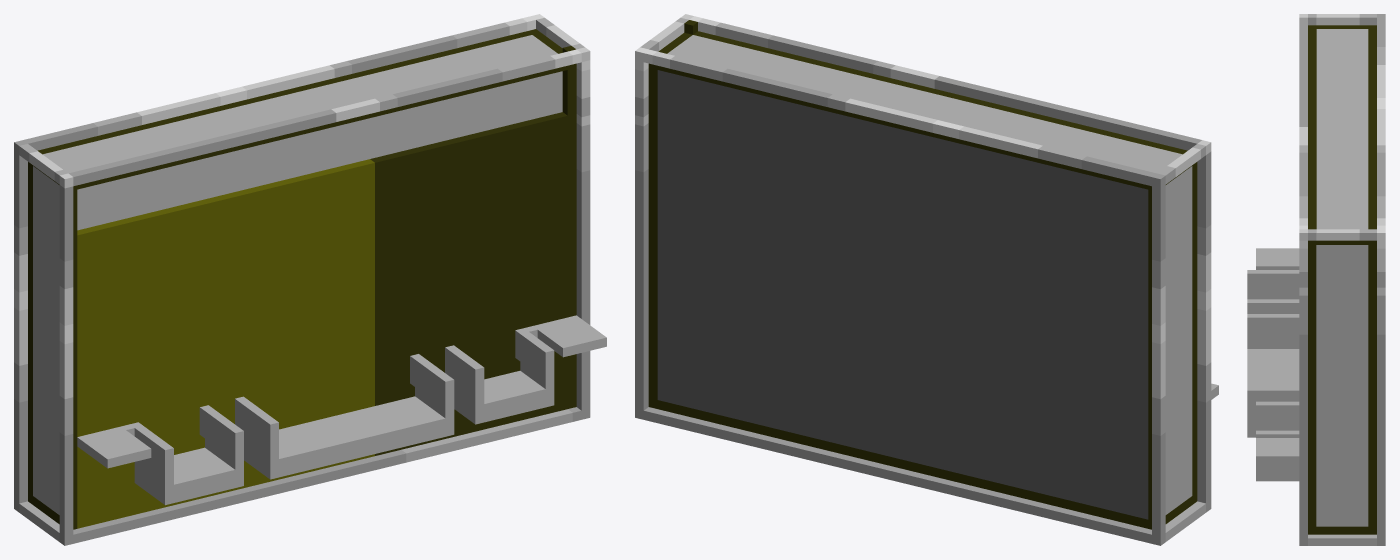
The model's file is Barraks Wall 4.obj.
The picture shows the model from 3 angles, left to right: view 1: azimuth 30°, elevation 25°; view 2: azimuth 150°, elevation 25°; view 3: azimuth 270°, elevation 25°; orthographic projection. The views are drawn at different scales.
Size of the model in its own units: 60 by 40 by 16.
1 material, 1 textured.
